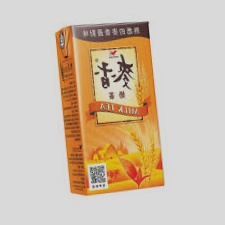鋁箔包: (47, 17, 170, 199)
